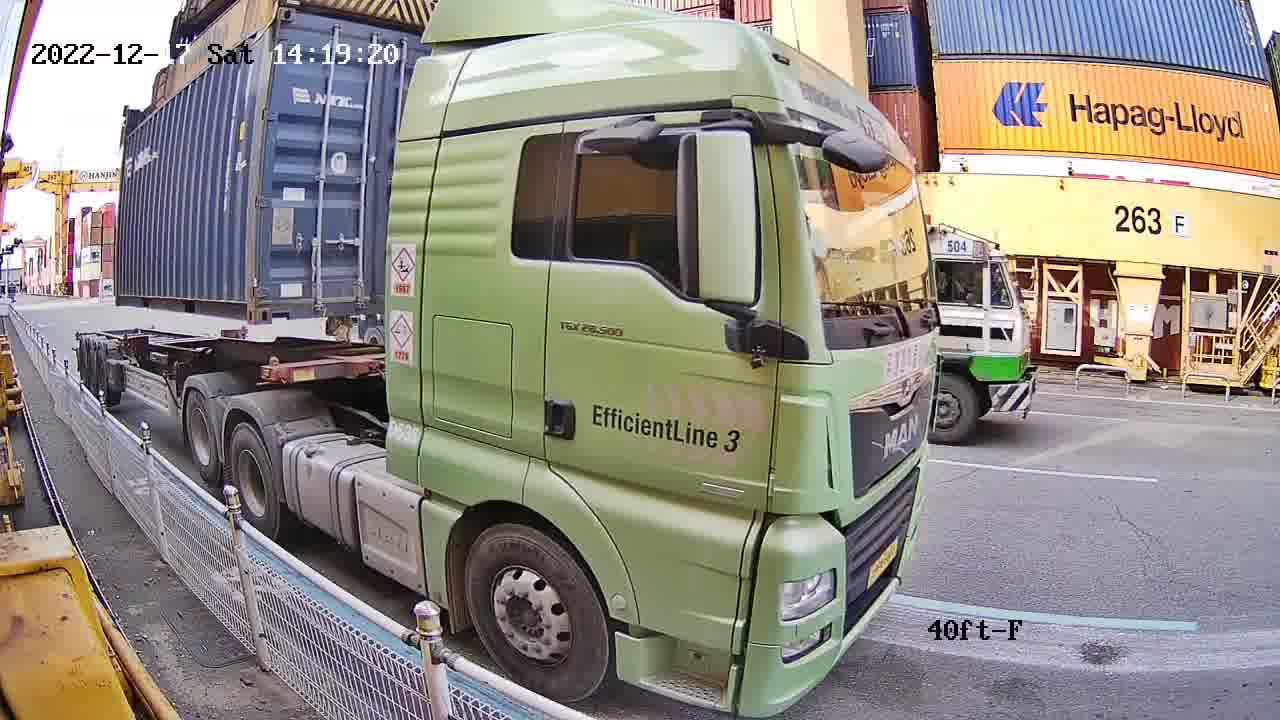Chassis: (280, 353, 383, 384)
Cone: (258, 353, 279, 384)
Hole_L: (256, 286, 298, 323)
Hole_R: (222, 285, 258, 325)
Tire: (465, 527, 602, 698), (227, 429, 275, 528), (183, 394, 218, 479)
